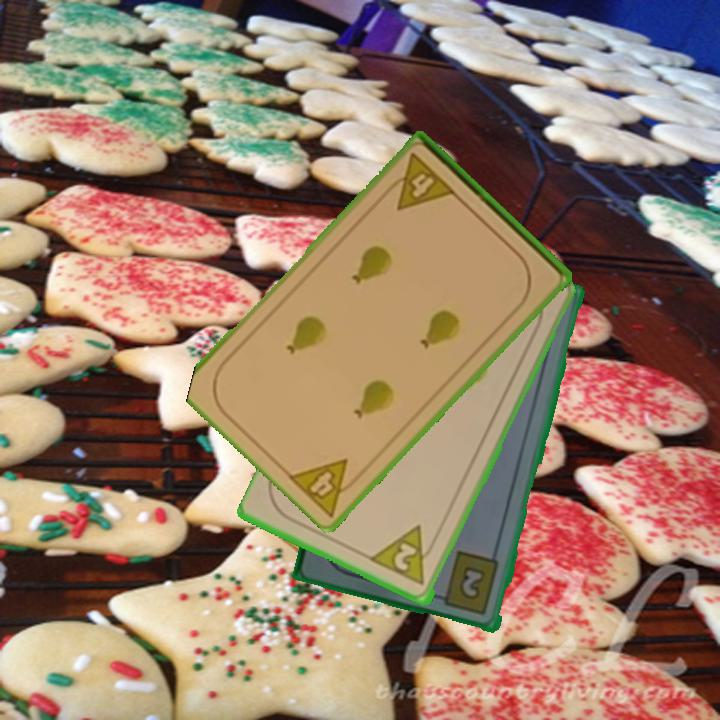2b: (432, 548, 502, 618)
2p: (369, 522, 440, 590)
4p: (285, 455, 368, 520), (380, 150, 459, 214)
